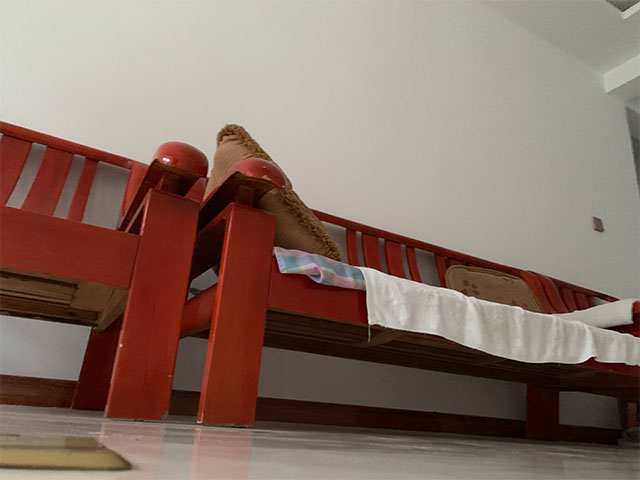carpet: (1, 432, 133, 472)
sofa: (193, 161, 640, 446), (1, 124, 213, 421)
